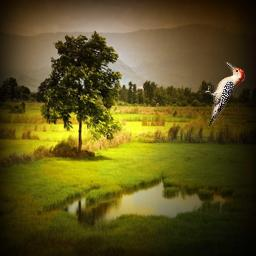Woodpecker: (202, 62, 245, 127)
